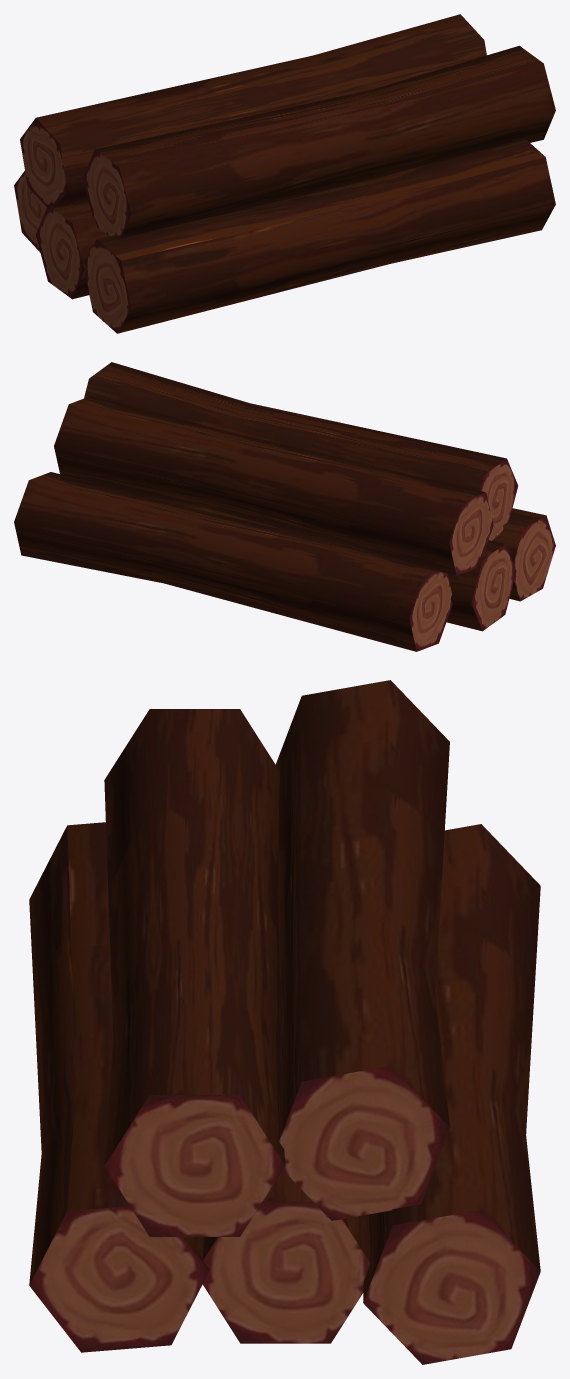
Rendered from SM_PROP_treetrunk_01.glb.
The picture shows the model from 3 angles, top to bottom: view 1: azimuth 30°, elevation 25°; view 2: azimuth 150°, elevation 25°; view 3: azimuth 270°, elevation 25°; orthographic projection. The views are drawn at different scales.
Parts seen in each view (by area): view 1: SM_PROP_treetrunk_01_EXPORT; view 2: SM_PROP_treetrunk_01_EXPORT; view 3: SM_PROP_treetrunk_01_EXPORT.
Boxes of the visible parts, x1,y1,x2,y2 form: SM_PROP_treetrunk_01_EXPORT: (14,14,555,333); SM_PROP_treetrunk_01_EXPORT: (14,362,555,651); SM_PROP_treetrunk_01_EXPORT: (29,680,540,1364).
Bounding box in the file's own units: 4.84 × 1.6 × 2.57.
2 materials, 2 textured.
